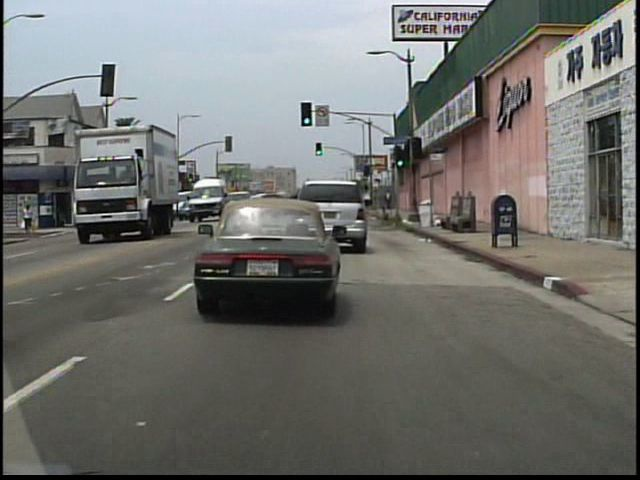person: (24, 205, 36, 234), (384, 188, 394, 210)
